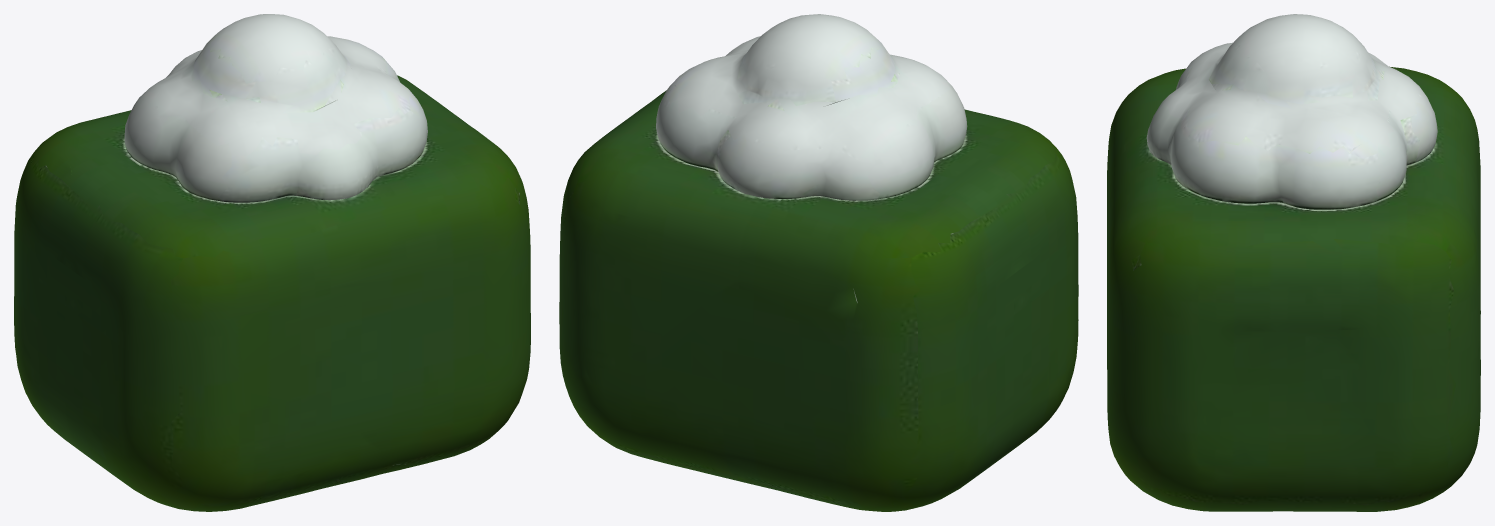
The model's file is jabon.glb.
The picture shows the model from 3 angles, left to right: view 1: azimuth 30°, elevation 25°; view 2: azimuth 150°, elevation 25°; view 3: azimuth 270°, elevation 25°; orthographic projection.
Parts seen in each view (by area): view 1: objeto; view 2: objeto; view 3: objeto.
Boxes of the visible parts, x1,y1,x2,y2 form: objeto: (14,14,530,511); objeto: (559,14,1078,511); objeto: (1107,14,1480,511).
Bounding box in the file's own units: 0.8402 × 0.8459 × 0.6717.
1 material, 1 textured.
